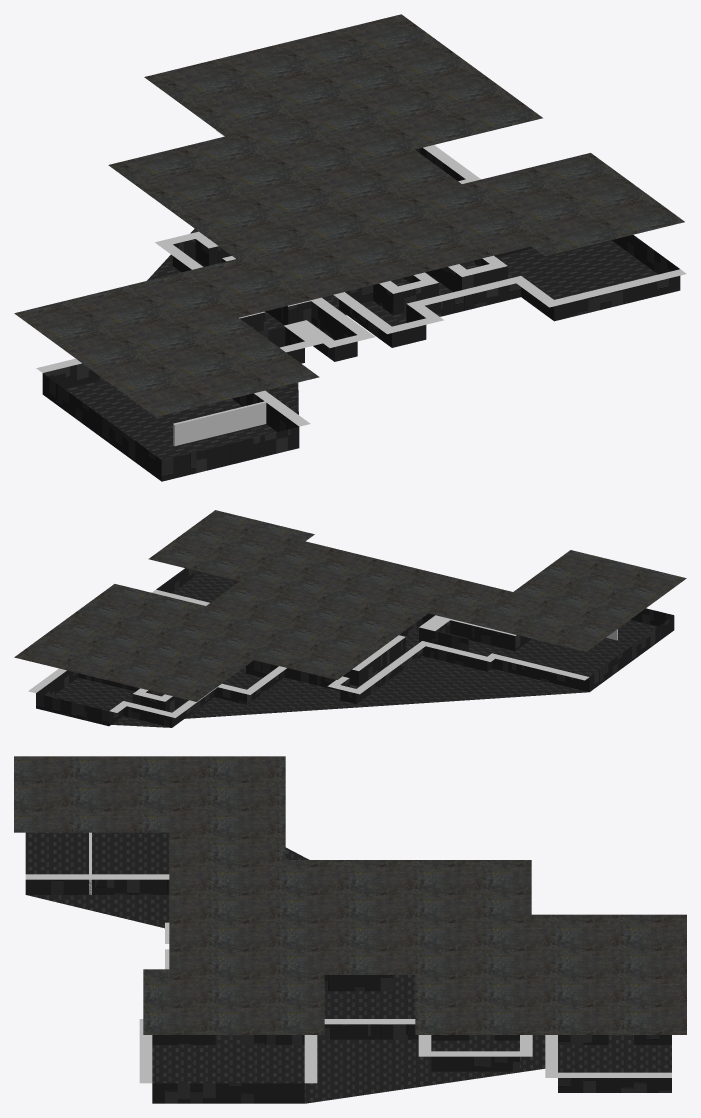
File: texturedlevelmk3.fbx
3 views of the same model, one above another, from view 1: azimuth 30°, elevation 25°; view 2: azimuth 150°, elevation 25°; view 3: azimuth 270°, elevation 25° (orthographic). The views are drawn at different scales.
Visible parts, largest first — view 1: Plane_001, Plane; view 2: Plane_001, Plane; view 3: Plane_001, Plane.
Boxes of the visible parts, x1,y1,x2,y2 form: Plane_001: [14, 14, 684, 416]; Plane: [36, 130, 686, 481]; Plane_001: [14, 510, 686, 701]; Plane: [28, 568, 674, 727]; Plane_001: [14, 756, 686, 1034]; Plane: [25, 832, 671, 1103].
Bounding box in the file's own units: 204 × 23.5 × 208.
